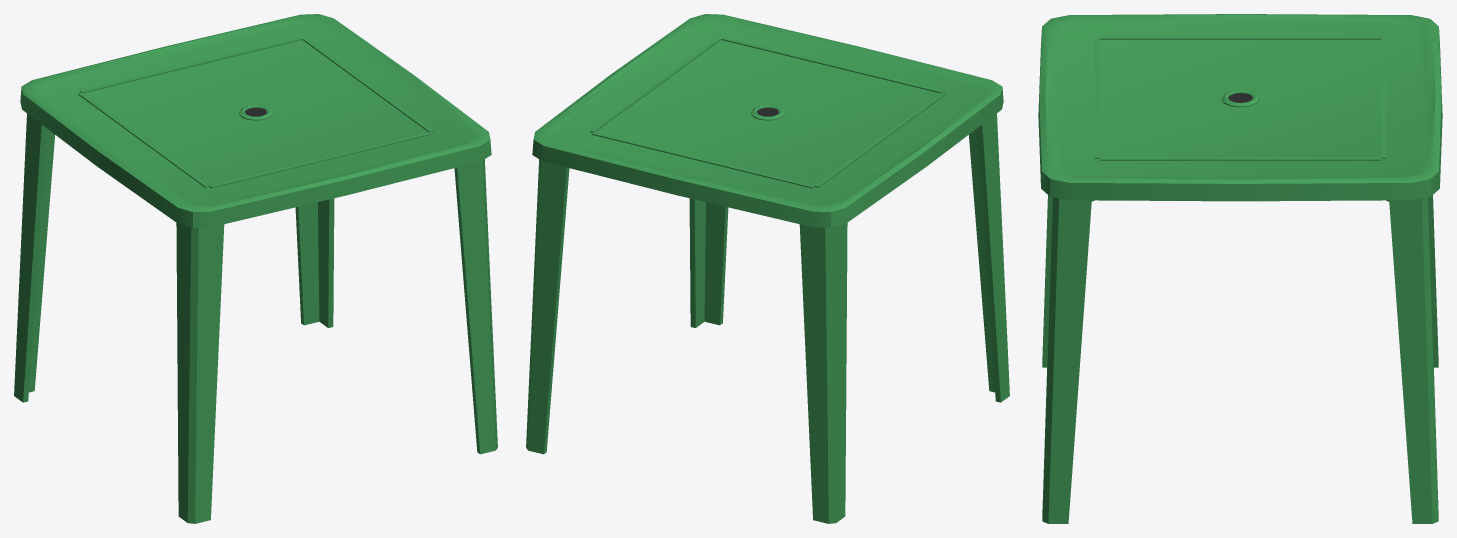
File: SC_Ter_Table_Plastic_Square_Green.gltf
3 views of the same model, side by side, from view 1: azimuth 30°, elevation 25°; view 2: azimuth 150°, elevation 25°; view 3: azimuth 270°, elevation 25° (orthographic). The views are drawn at different scales.
Parts seen in each view (by area): view 1: SC_Ter_Table_Plastic_Square_Green; view 2: SC_Ter_Table_Plastic_Square_Green; view 3: SC_Ter_Table_Plastic_Square_Green.
Part boxes in pixels (left/top/right/bottom): SC_Ter_Table_Plastic_Square_Green: left=14, top=14, right=497, bottom=523; SC_Ter_Table_Plastic_Square_Green: left=526, top=14, right=1009, bottom=523; SC_Ter_Table_Plastic_Square_Green: left=1038, top=14, right=1442, bottom=523.
Size of the model in its own units: 0.804 by 0.7535 by 0.804.
Materials: 1 (1 with a texture image).
